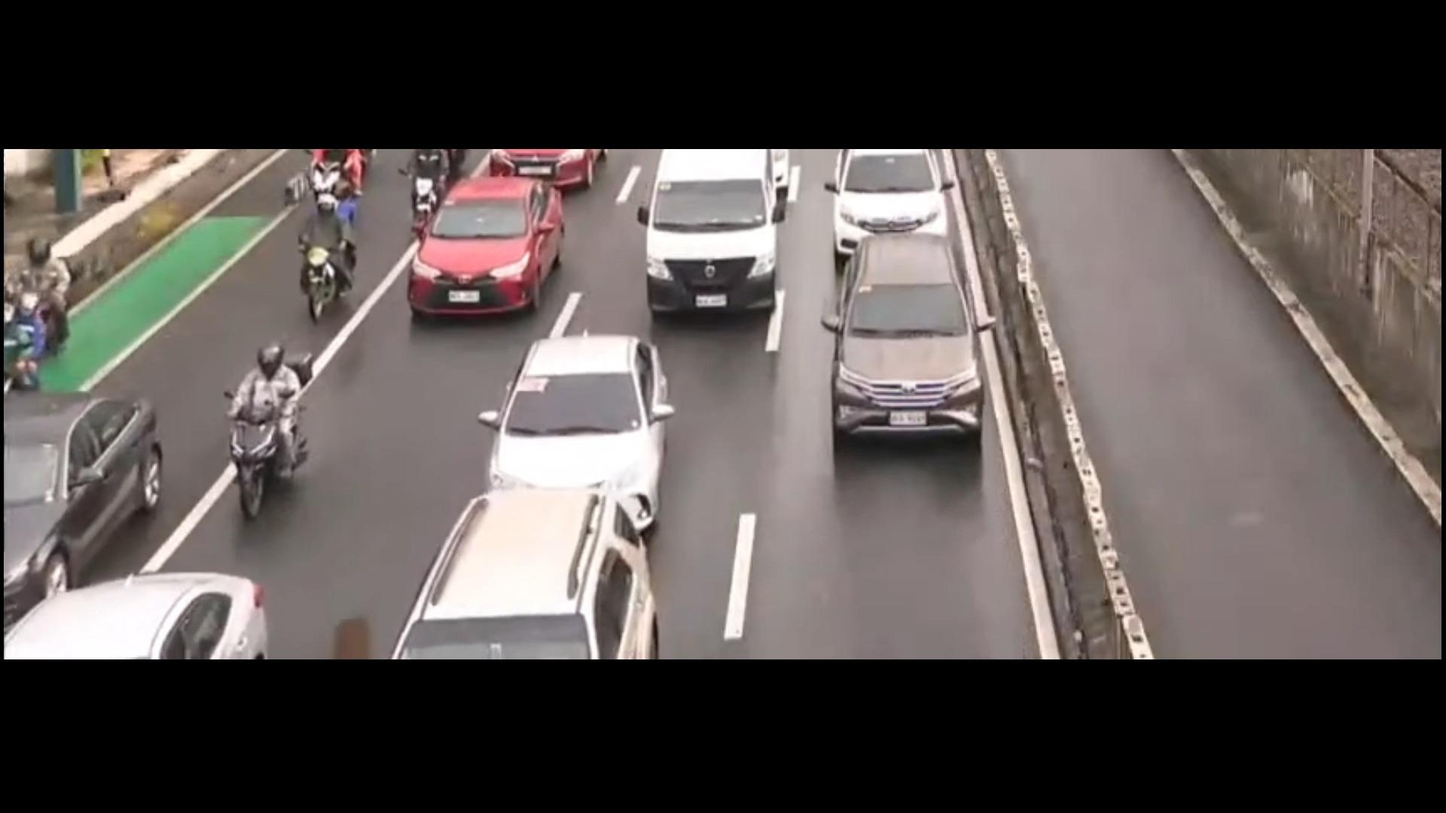Motorcycle: (206, 328, 343, 523), (268, 172, 388, 334), (0, 236, 91, 395)
SUV: (329, 482, 697, 663), (817, 217, 993, 467), (825, 143, 972, 265)
Sedan: (471, 313, 691, 532), (0, 367, 185, 616), (381, 168, 580, 336), (0, 550, 287, 664)
Van: (637, 149, 802, 310)
